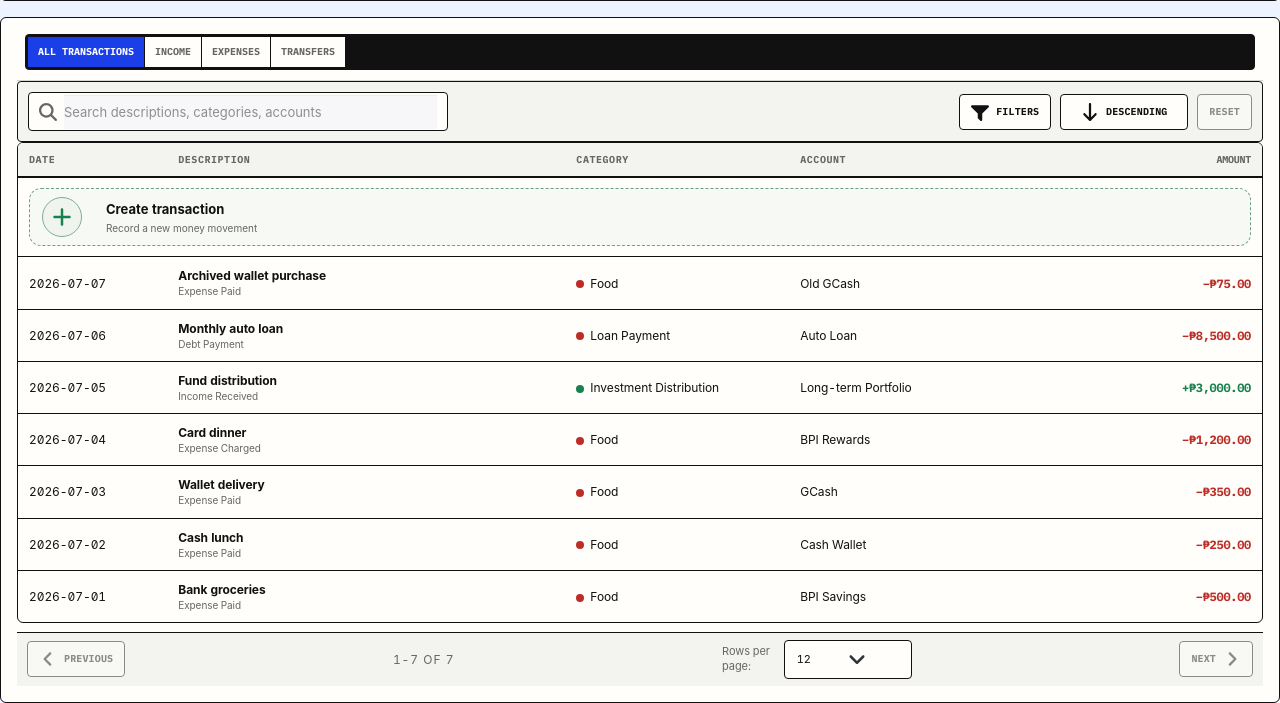
Test: contextual transaction editing › renders the bank editor for Bank groceries
(page scrolled)
Click the text "Bank groceries": click(68, 596) [18,570,1262,622]
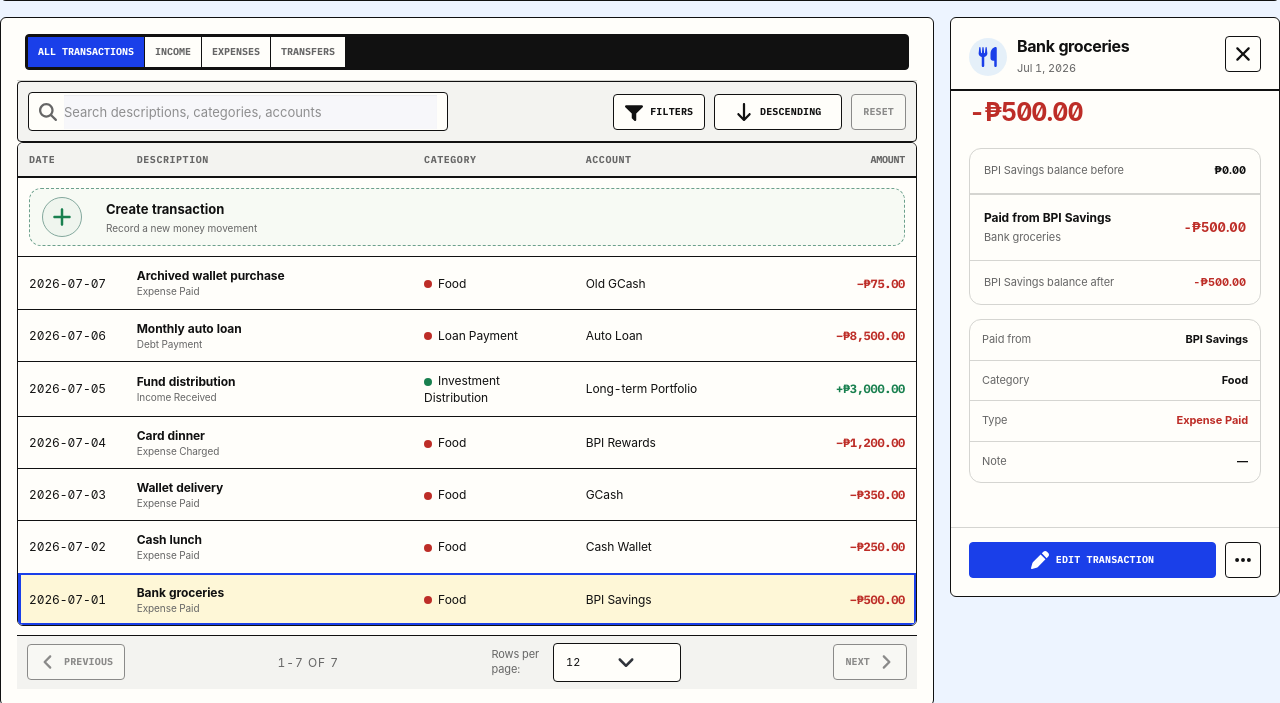
Click the button "Edit Transaction": click(1092, 560) [969,542,1216,578]
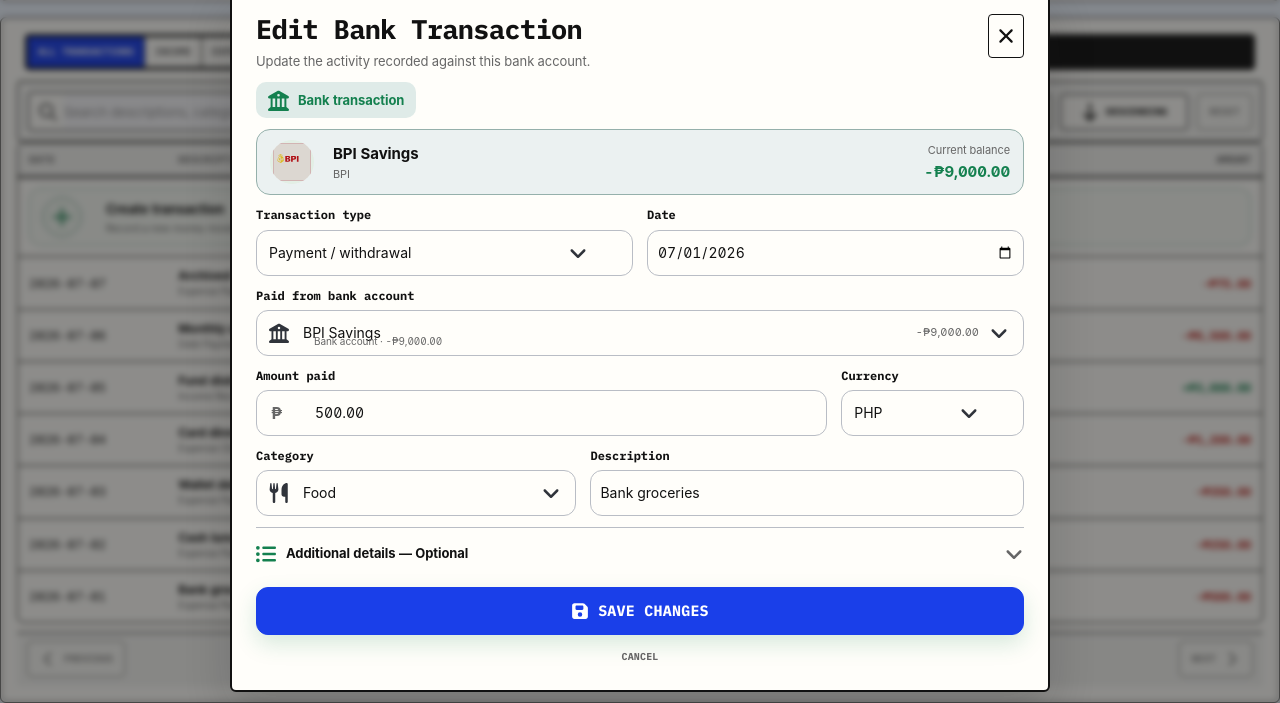
Expected: the text "BPI Savings" next to "Current balance" is shown, [333,144,419,162]
Expected: the heading "Edit Bank Transaction" is shown, [256,14,590,45]
Expected: the text "Bank transaction" is shown, [298,91,404,110]
